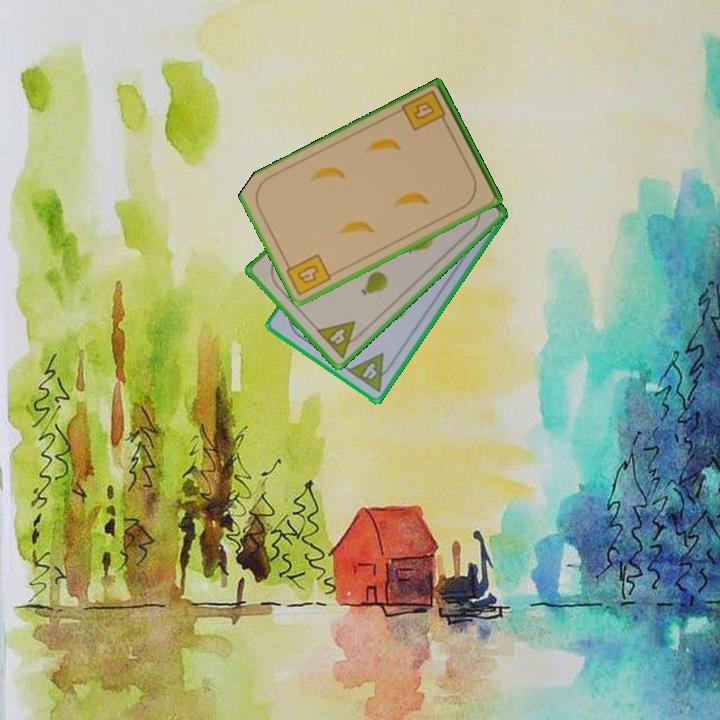4b: (281, 250, 334, 298), (399, 87, 451, 134)
4p: (344, 350, 398, 395), (313, 317, 367, 362)
